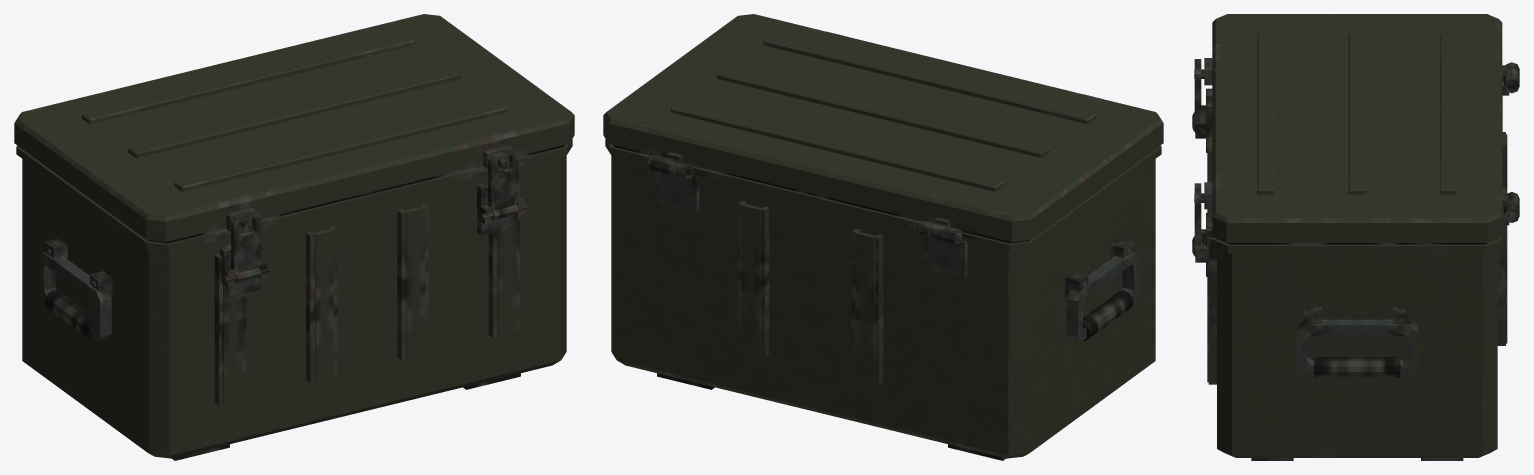
The model's file is olive_storage_box.glb.
3 views of the same model, side by side, from view 1: azimuth 30°, elevation 25°; view 2: azimuth 150°, elevation 25°; view 3: azimuth 270°, elevation 25° (orthographic).
Parts seen in each view (by area): view 1: StorageBoxBody, StorageBoxLid, StorageBoxLatch1, StorageBoxLatch2; view 2: StorageBoxBody, StorageBoxLid; view 3: StorageBoxLid, StorageBoxBody, StorageBoxLatch1, StorageBoxLatch2.
Part boxes in pixels (left/top/right/bottom): StorageBoxBody: left=16, top=139, right=572, bottom=460; StorageBoxLid: left=14, top=14, right=574, bottom=241; StorageBoxLatch1: left=231, top=212, right=261, bottom=282; StorageBoxLatch2: left=488, top=149, right=518, bottom=219; StorageBoxBody: left=605, top=139, right=1161, bottom=460; StorageBoxLid: left=603, top=14, right=1163, bottom=241; StorageBoxLid: left=1194, top=14, right=1519, bottom=242; StorageBoxBody: left=1194, top=62, right=1519, bottom=460; StorageBoxLatch1: left=1192, top=59, right=1203, bottom=131; StorageBoxLatch2: left=1192, top=183, right=1203, bottom=255.
Size of what is drawn, in the model's own units: 0.8 by 0.45 by 0.502.
1 material, 1 textured.
